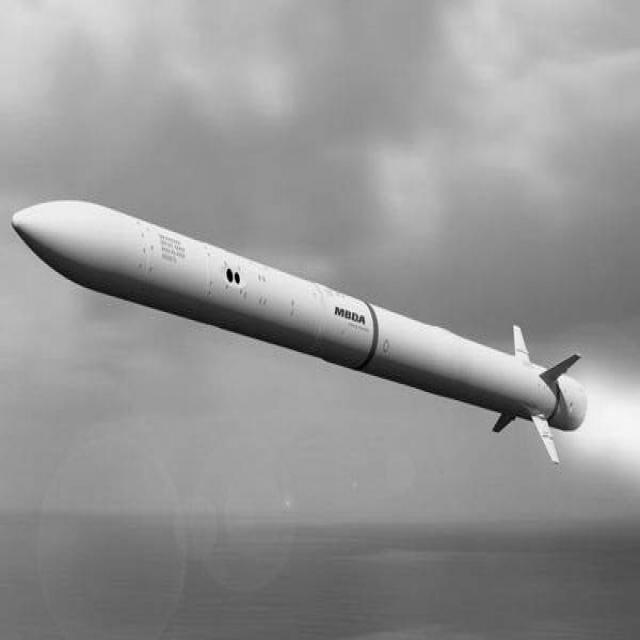missile: (11, 178, 609, 478)
